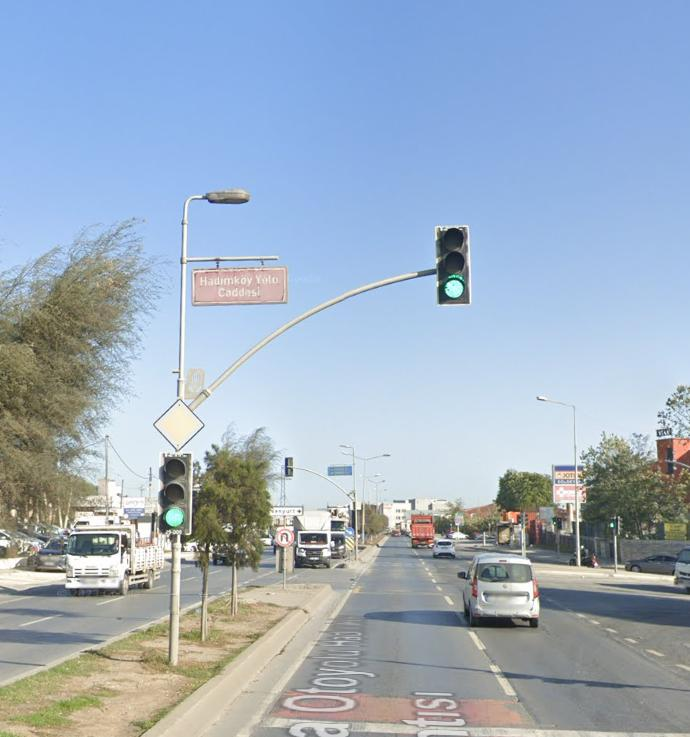greenlight: (159, 451, 192, 530), (436, 225, 467, 302)
